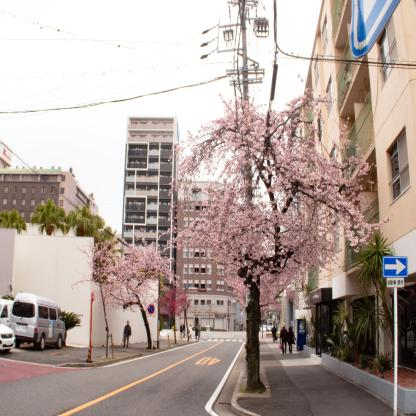Someiyoshino: (171, 95, 384, 311), (89, 238, 182, 305)
